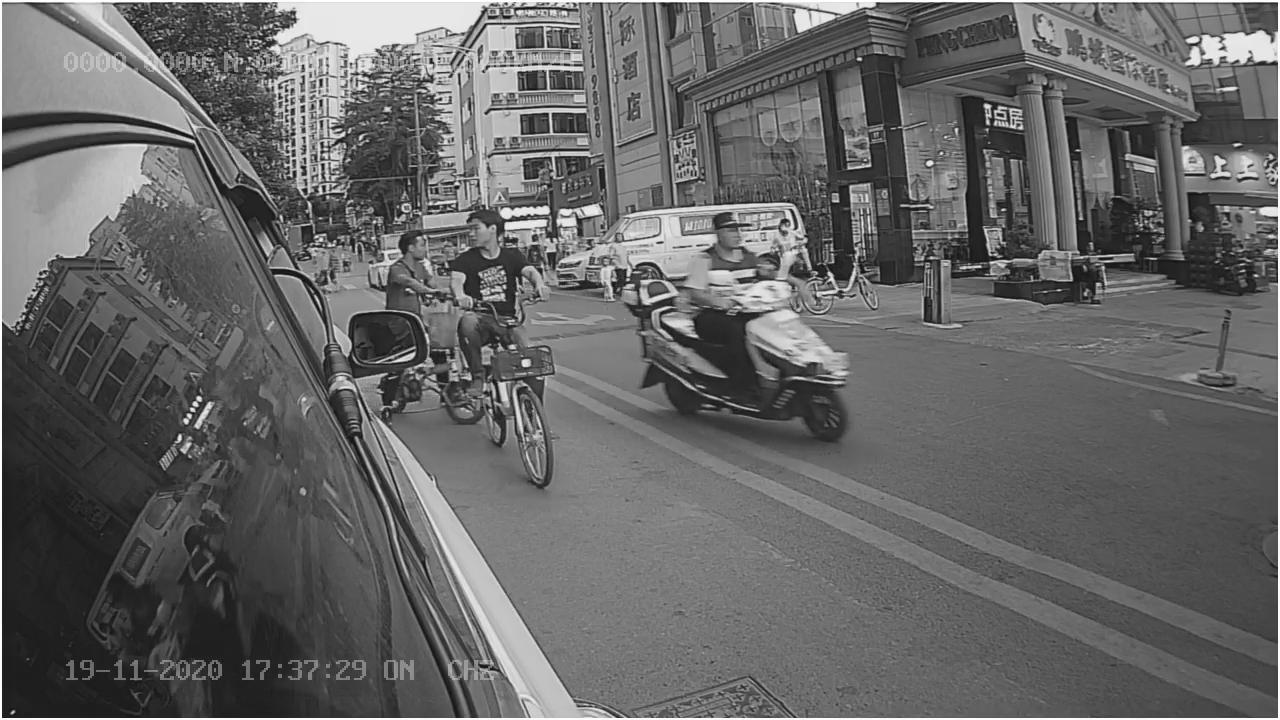person: (687, 205, 776, 293), (448, 215, 527, 293)
